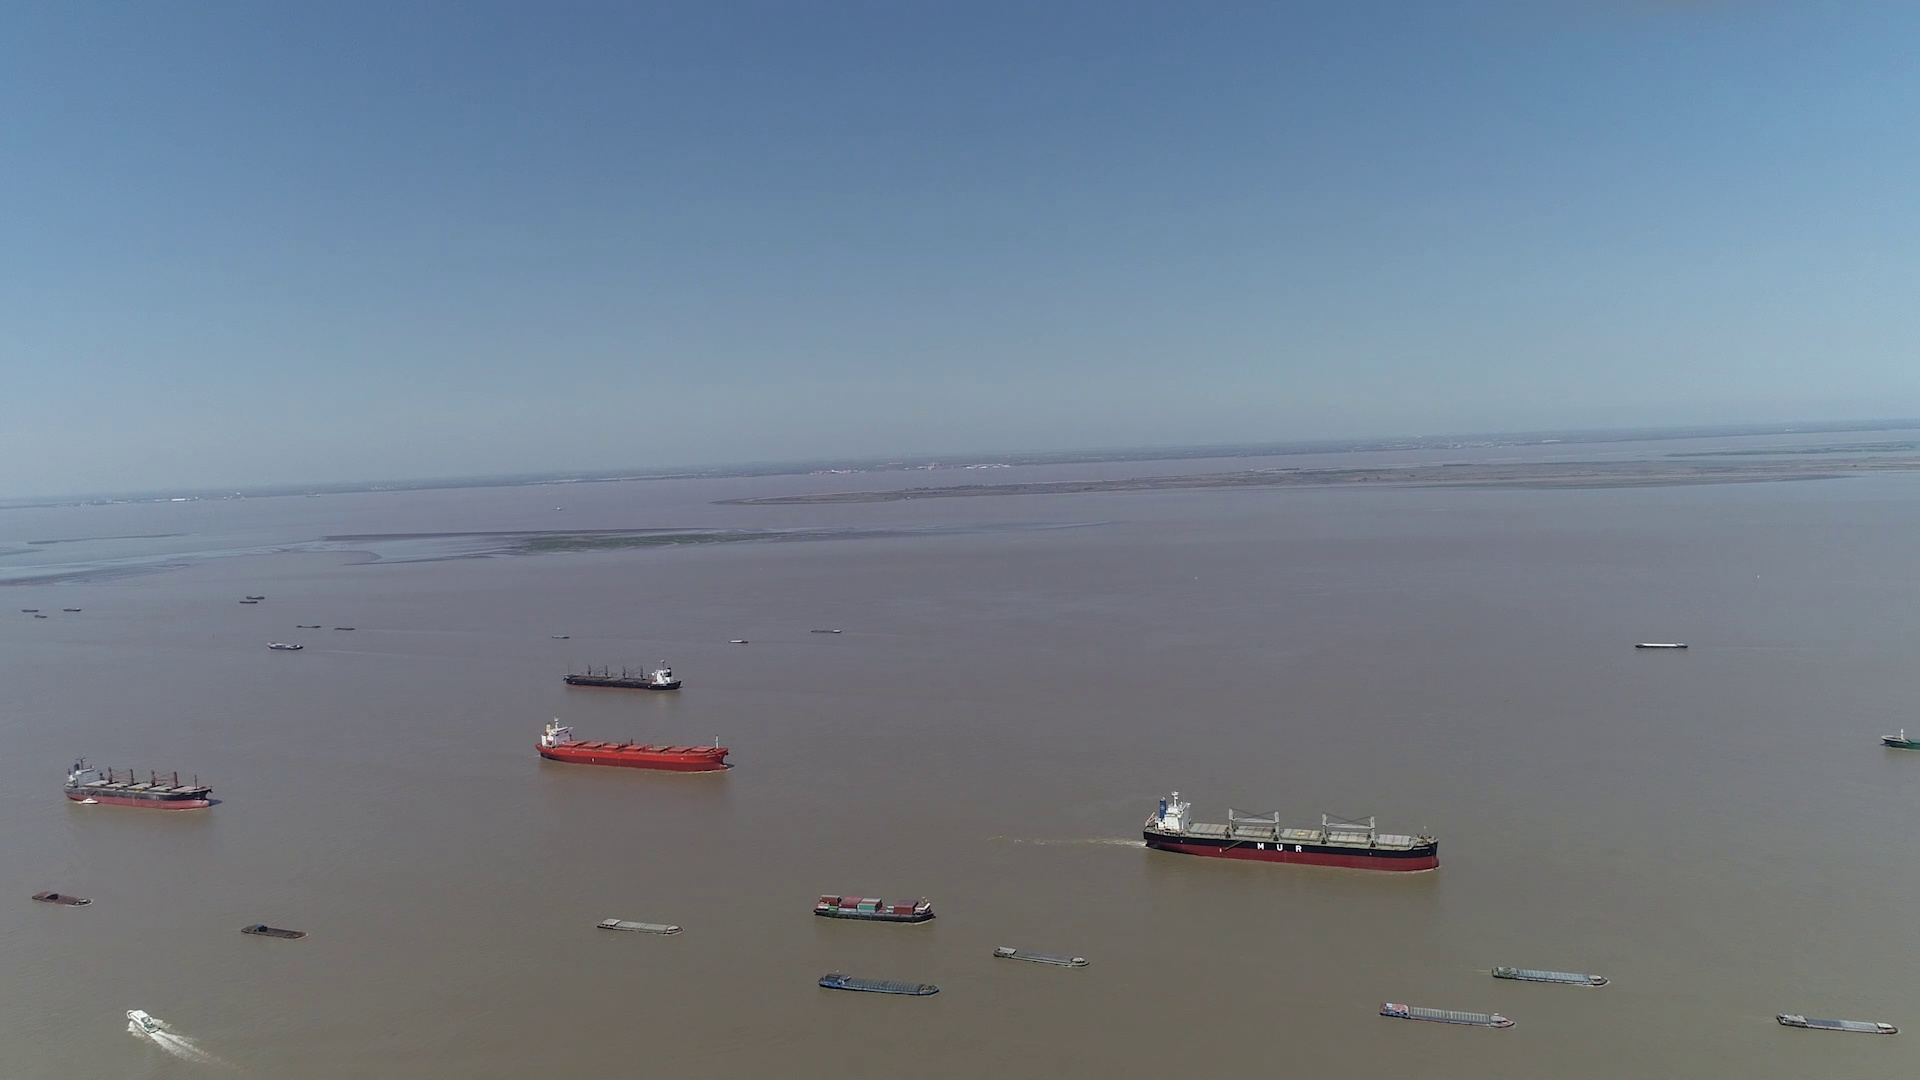ship: (1139, 791, 1439, 872), (535, 717, 731, 771), (63, 760, 214, 811), (812, 891, 934, 923), (1378, 1002, 1516, 1030), (564, 661, 678, 690), (816, 973, 940, 997), (1774, 1010, 1898, 1034), (1490, 965, 1607, 986), (992, 944, 1091, 967), (597, 916, 683, 934), (124, 1010, 169, 1038), (241, 923, 305, 939), (1883, 729, 1920, 752), (32, 890, 82, 905), (1634, 640, 1689, 647), (268, 640, 305, 650)
